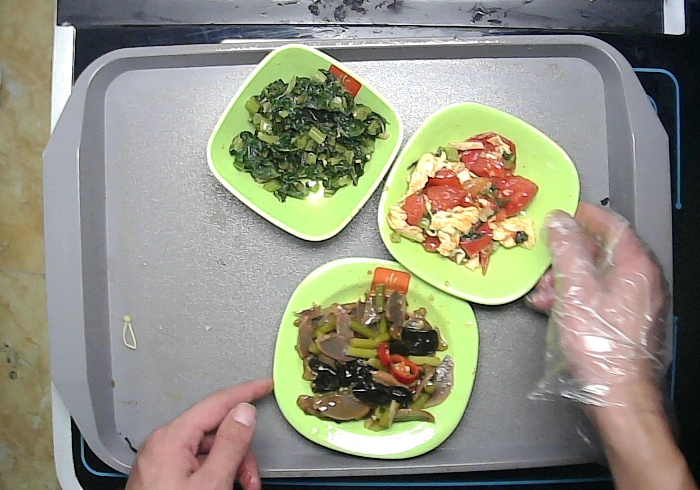SHKJ-Lv_Se_Cai_Die: (374, 98, 586, 307)
SHKJ-Lv_Se_Si_Fang_Cai_Die: (268, 253, 482, 463)
SHKJ-Lv_Se_Xiao_Fang_Die: (203, 41, 404, 248)
